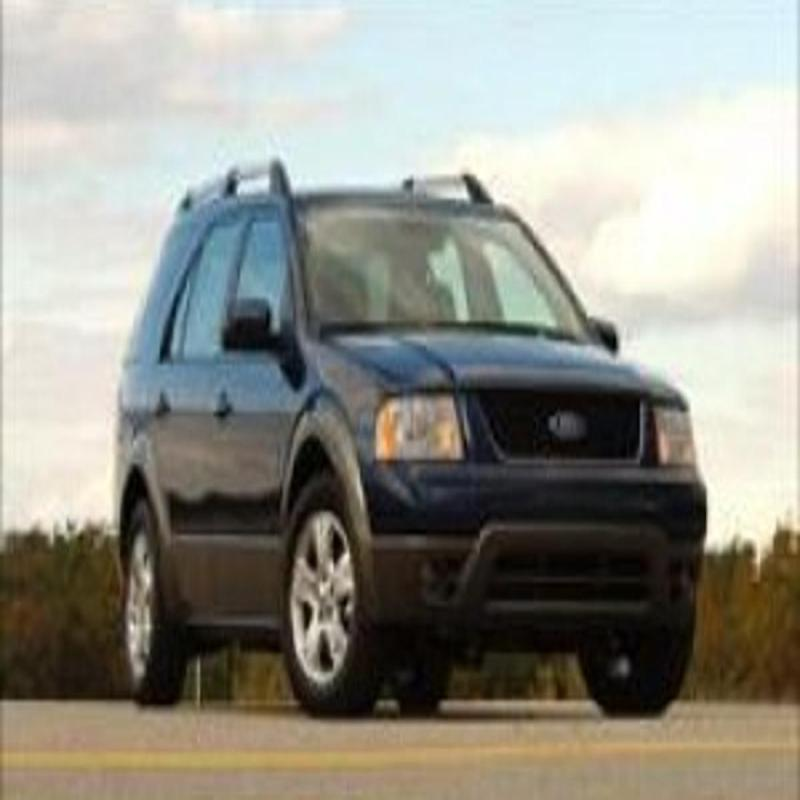car: (119, 157, 714, 722)
